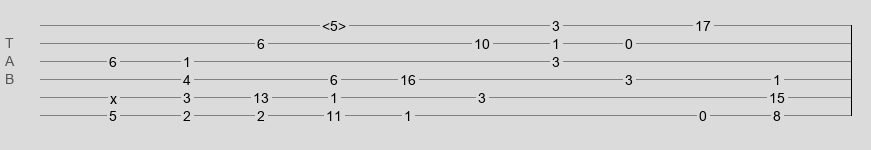0: (625, 36, 633, 46), (699, 108, 707, 118)
1: (183, 54, 191, 64), (330, 90, 338, 100), (404, 108, 412, 118), (552, 36, 560, 46), (773, 72, 781, 82)
10: (474, 36, 490, 46)
11: (326, 108, 342, 118)
13: (253, 90, 269, 100)
15: (769, 90, 785, 100)
16: (400, 72, 416, 82)
17: (695, 18, 711, 28)
2: (183, 108, 191, 118), (257, 108, 265, 118)
3: (183, 90, 191, 100), (478, 90, 486, 100), (552, 18, 560, 28), (552, 54, 560, 64), (625, 72, 633, 82)
4: (183, 72, 191, 82)
5: (109, 108, 117, 118)
6: (109, 54, 117, 64), (257, 36, 265, 46), (330, 72, 338, 82)
8: (773, 108, 781, 118)
harmonic: (322, 18, 346, 28)
x: (110, 91, 117, 99)
